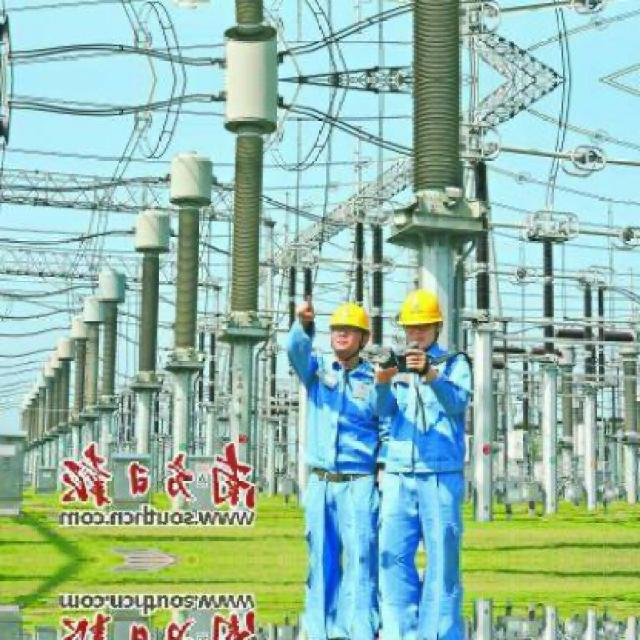helmet: (394, 280, 448, 351), (324, 298, 376, 360)
